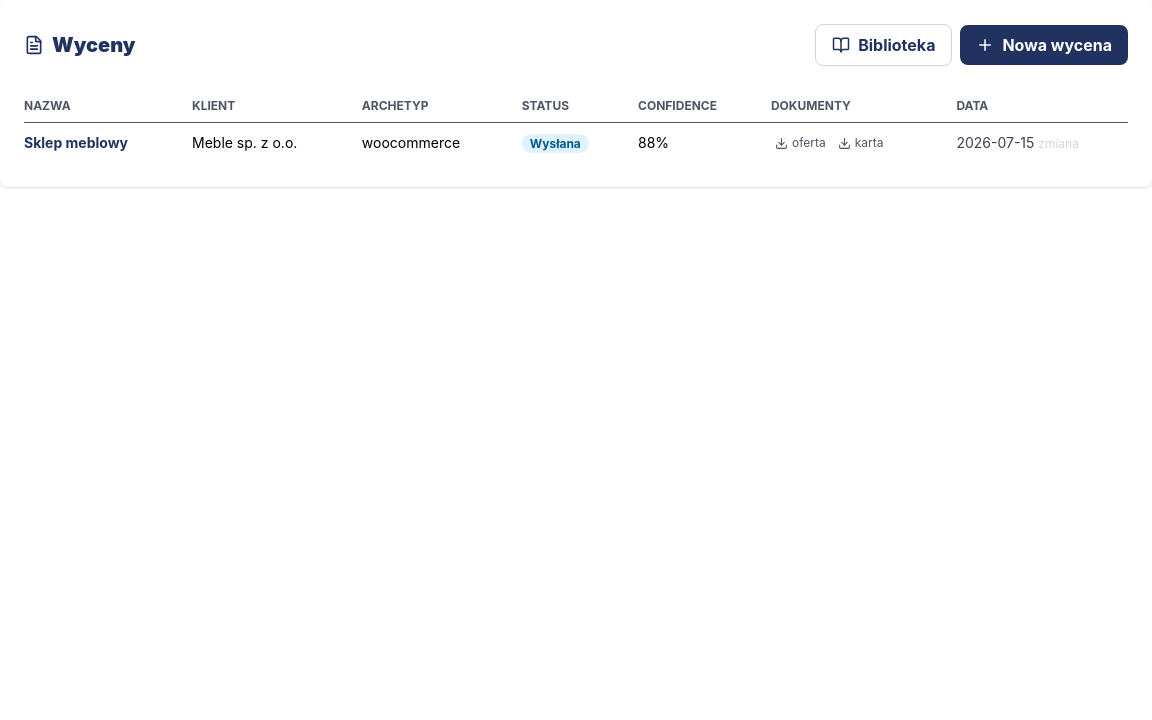
Test: f2b — rozstrzygnięcie › wysłana ma Wygraną i Przegraną, a nie ma już przycisku wysyłki
This screenshot has width=1152, height=720.
Click the text "Sklep meblowy".
click(108, 143)  # box [24,122,192,163]
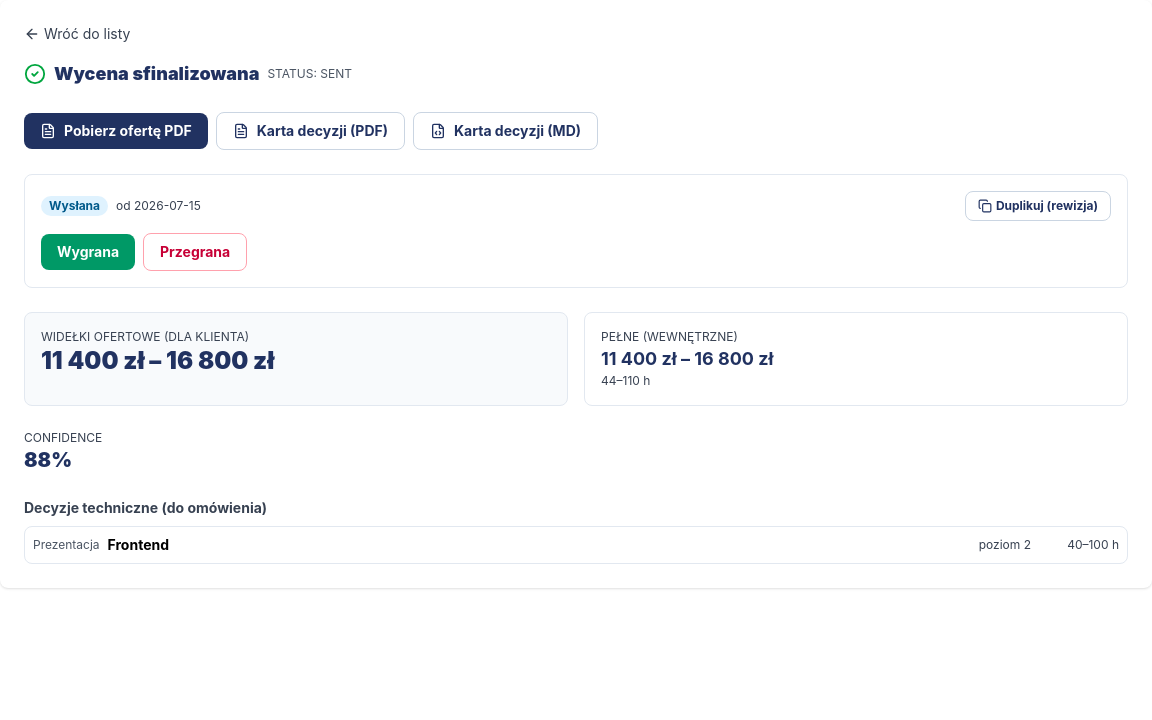
Expected: the heading "Wycena sfinalizowana" is shown, [54,60,259,88]
Expected: the button "Wygrana" is shown, [41,234,135,270]
Expected: the button "Przegrana" is shown, [143,233,247,271]
